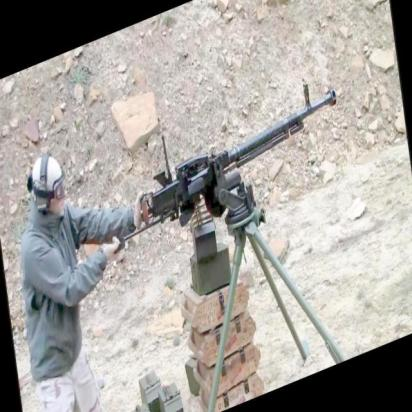Gun: (145, 82, 351, 226)
